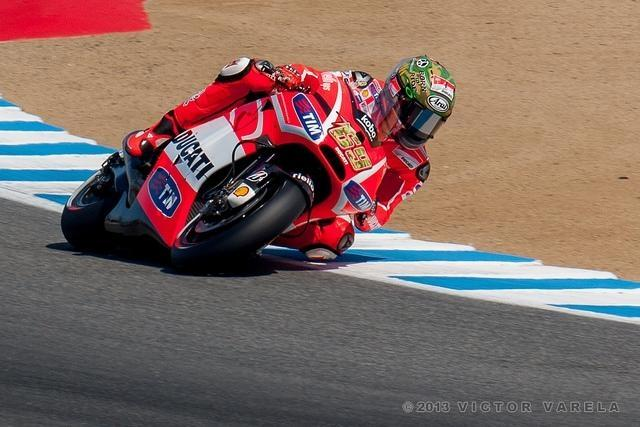motorcycle: (59, 76, 390, 276)
